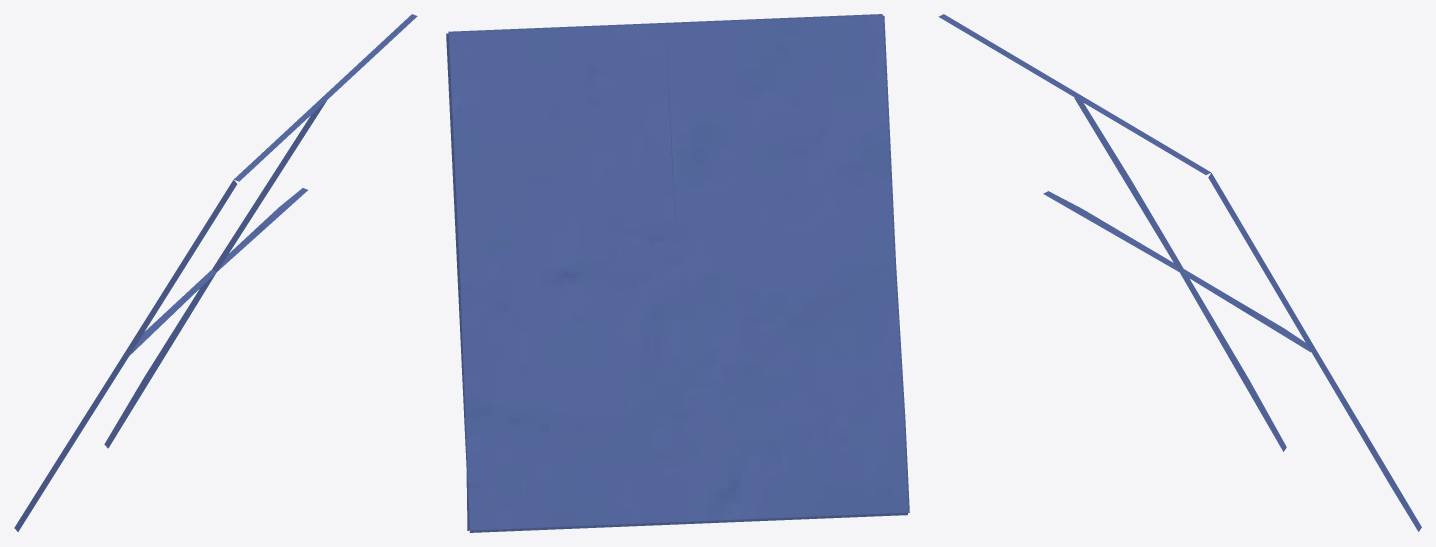
The picture shows the model from 3 angles, left to right: view 1: azimuth 30°, elevation 25°; view 2: azimuth 150°, elevation 25°; view 3: azimuth 270°, elevation 25°; orthographic projection. The views are drawn at different scales.
Size of the model in its own units: 78887 by 69086 by 71869.
Materials: 1 (1 with a texture image).
